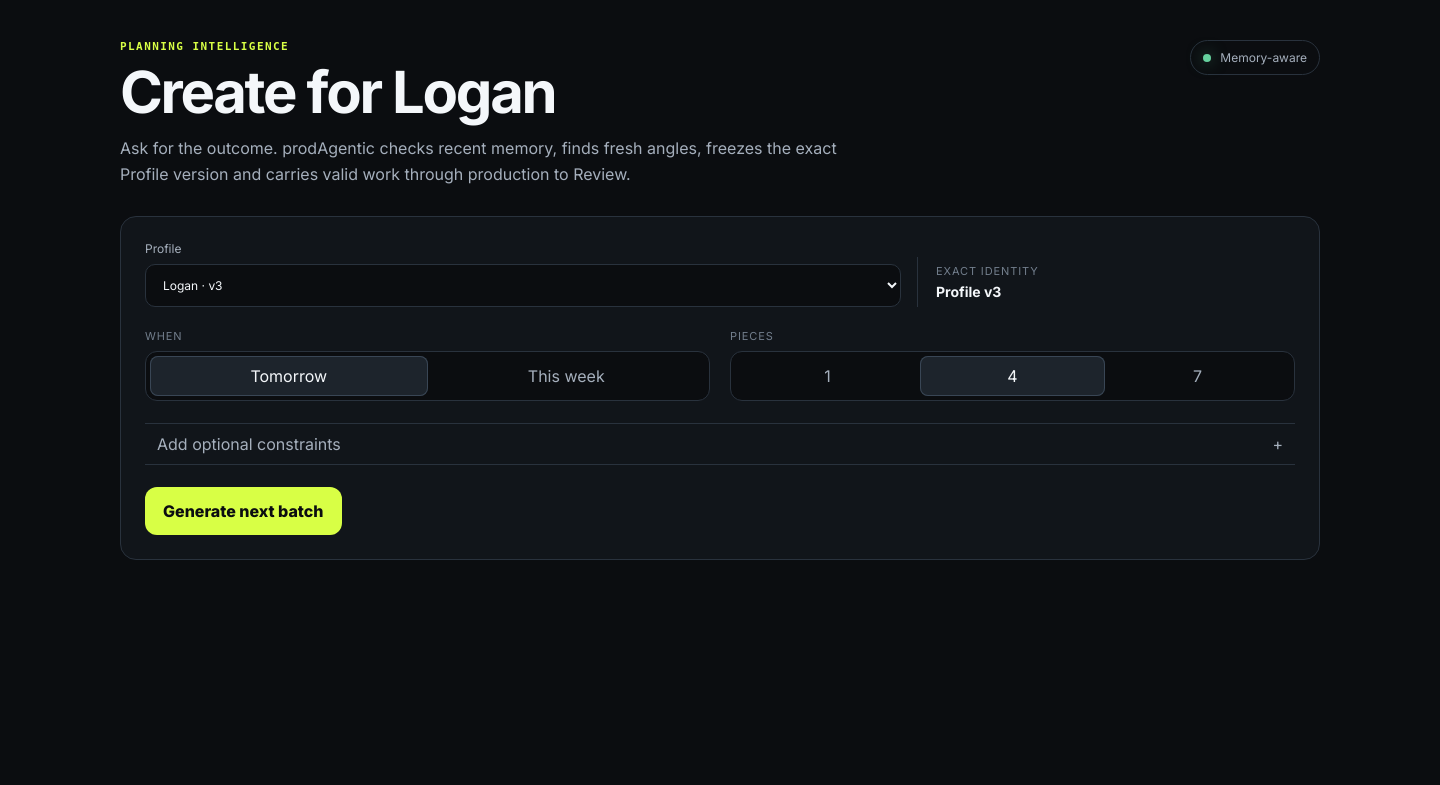
Scenario: MK1 R2 Create › tells the truth when novelty returns fewer items
The width and height of the screenshot is (1440, 785).
expect the heading "Create for Logan" is shown: met, box [120,57,555,127]
Click the button "Generate next batch" at (243, 510), box [145,486,342,534]
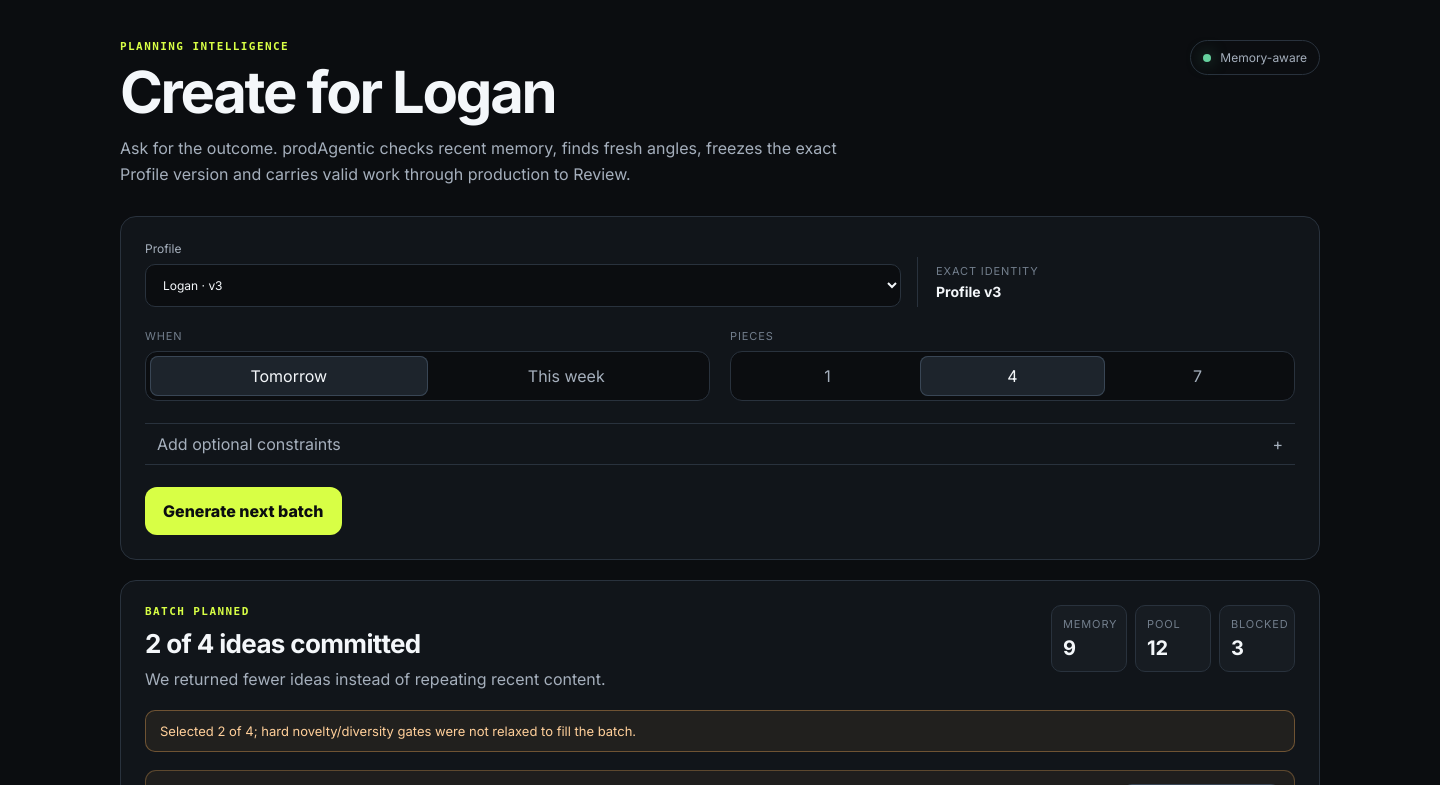
expect the heading "2 of 4 ideas committed" is shown: met, box [145,628,421,659]
expect the text "We returned fewer ideas instead of repeating recent content." is shown: met, box [145,667,606,692]
expect the text "were not relaxed to fill the batch" is shown: met, box [160,723,636,739]
